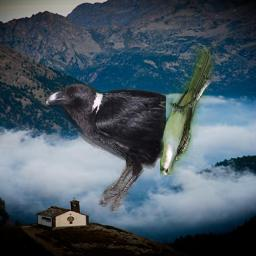Crow: (45, 83, 166, 213)
Cuckoo: (160, 45, 221, 175)
